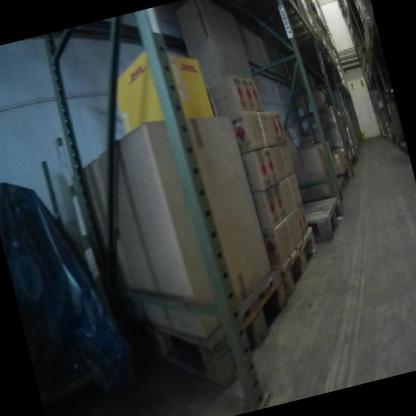pallet: (116, 249, 307, 407), (265, 223, 334, 304), (296, 192, 350, 253), (235, 0, 301, 25), (282, 31, 326, 61), (327, 176, 353, 215), (326, 166, 355, 194), (365, 20, 381, 48), (300, 0, 319, 18), (347, 152, 361, 172), (393, 135, 404, 155), (400, 142, 409, 159)
